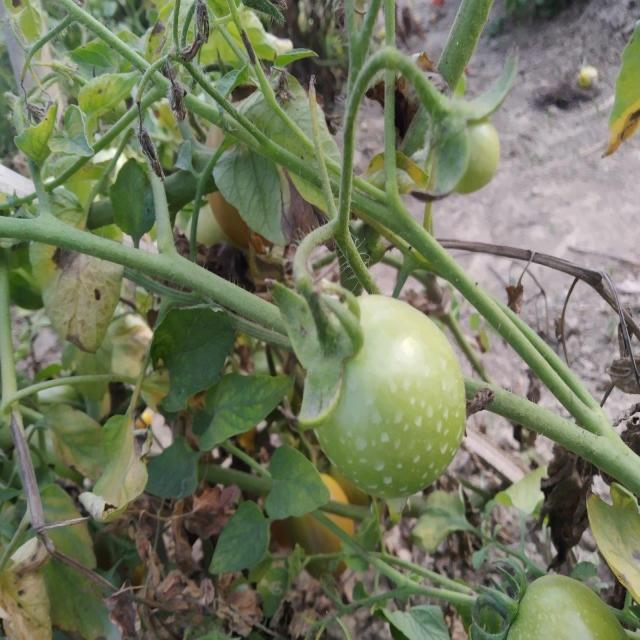Unripe: (304, 292, 469, 500)
